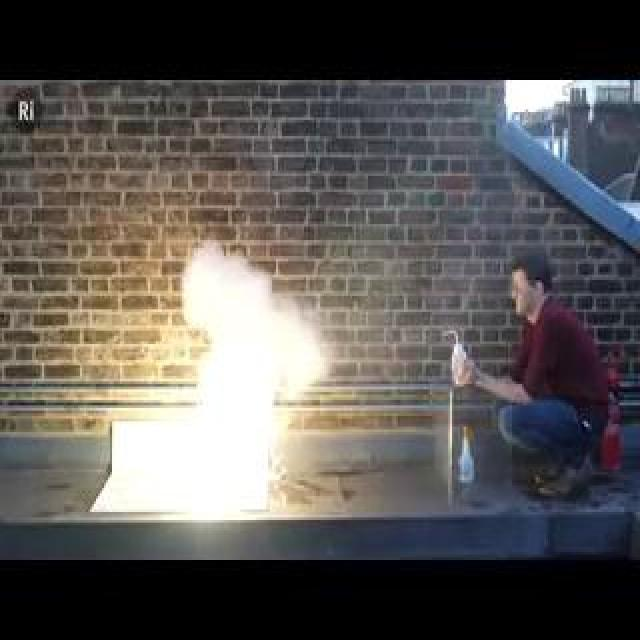Fire: (104, 104, 201, 468)
